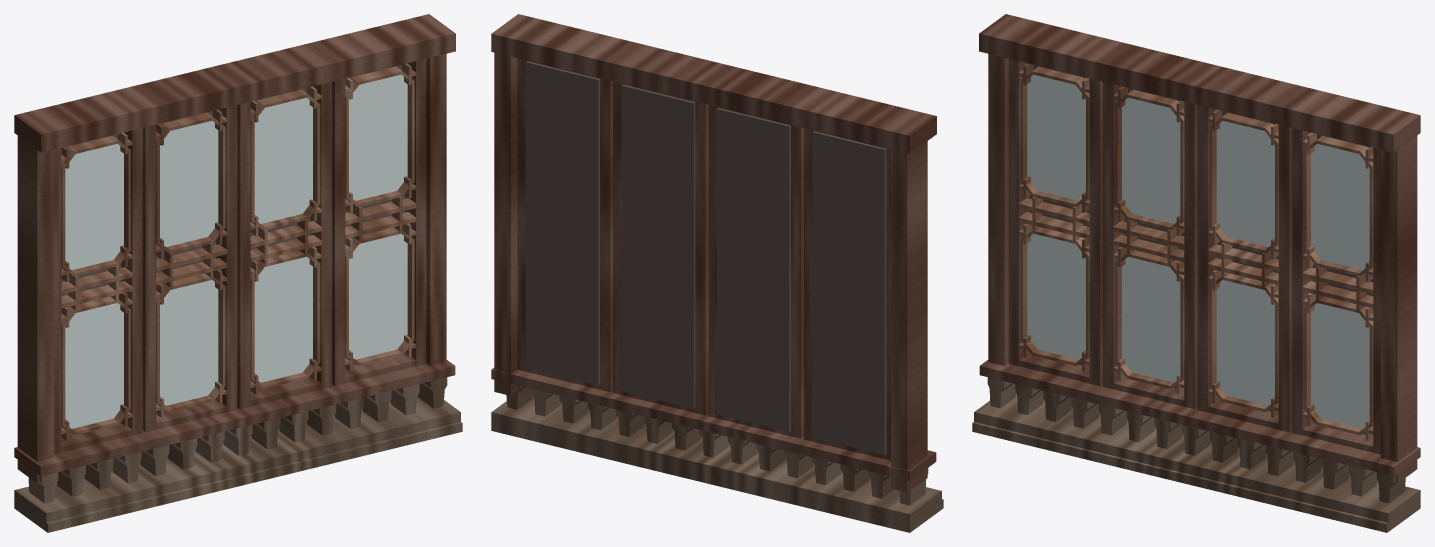
File: dongxing-teahouse-octagonal-timber-lights-far.glb
3 renders of one model, left to right at view 1: azimuth 30°, elevation 25°; view 2: azimuth 150°, elevation 25°; view 3: azimuth 330°, elevation 25°, orthographic.
Visible parts, largest first — view 1: 庄行东兴楼茶馆书场八角玻璃花窗与透空裙板; view 2: 庄行东兴楼茶馆书场八角玻璃花窗与透空裙板; view 3: 庄行东兴楼茶馆书场八角玻璃花窗与透空裙板.
Part boxes in pixels (box(x1,y1,x2,y2)): 庄行东兴楼茶馆书场八角玻璃花窗与透空裙板: box(14, 14, 462, 532); 庄行东兴楼茶馆书场八角玻璃花窗与透空裙板: box(491, 14, 943, 532); 庄行东兴楼茶馆书场八角玻璃花窗与透空裙板: box(972, 14, 1420, 532).
Size of the model in its own units: 2.28 by 2.07 by 0.318.
5 materials, 3 textured.
